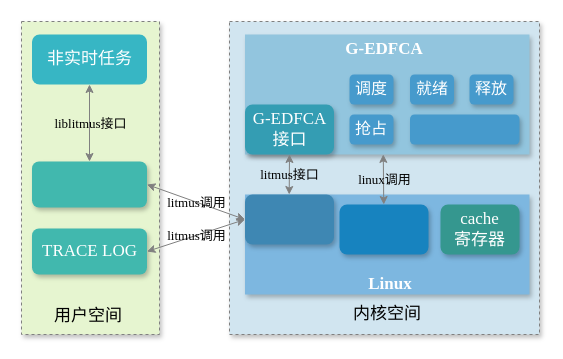
This 563x359 diagram has some shape labels left out. Each missing label, with the centre of its shape:
"G-EDFCA数据结构" belongs at (384,230).
"Litmus内核" belongs at (290,220).
"实时任务" belongs at (90,185).
"缓存分区管理" belongs at (465,130).
